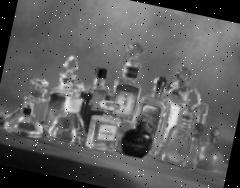glass: (1, 18, 240, 179)
